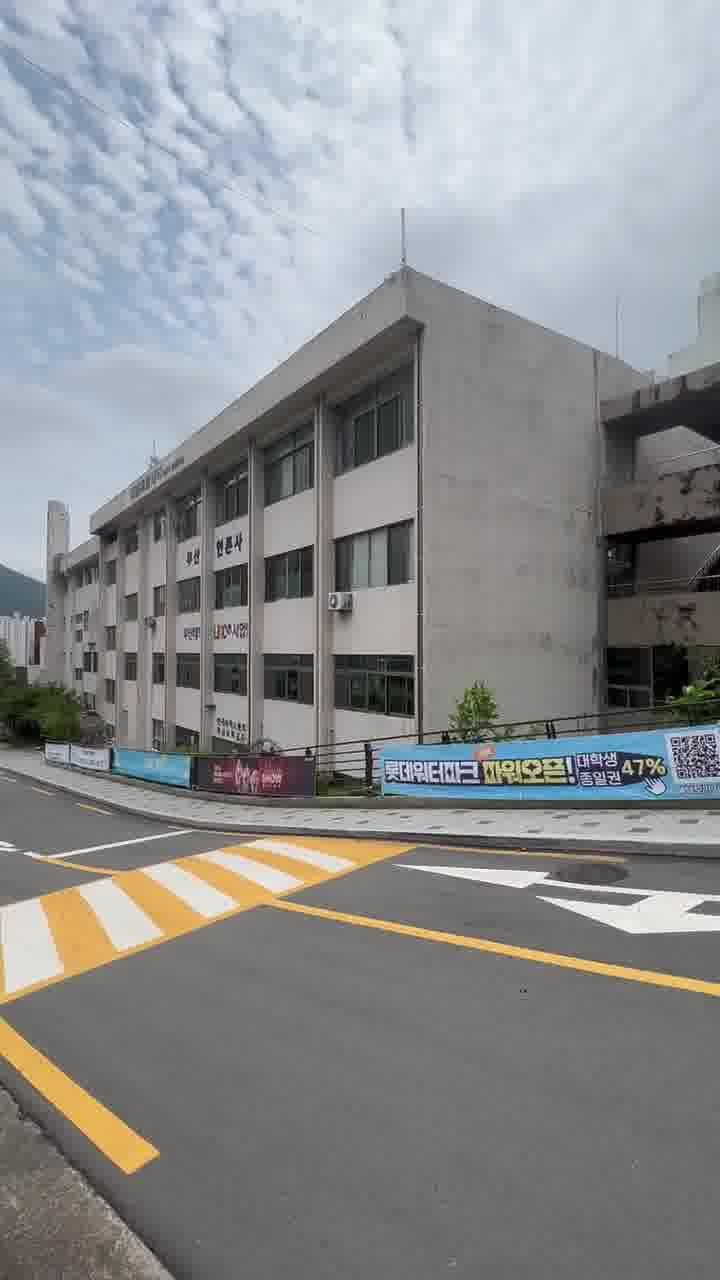building: (70, 292, 720, 716)
